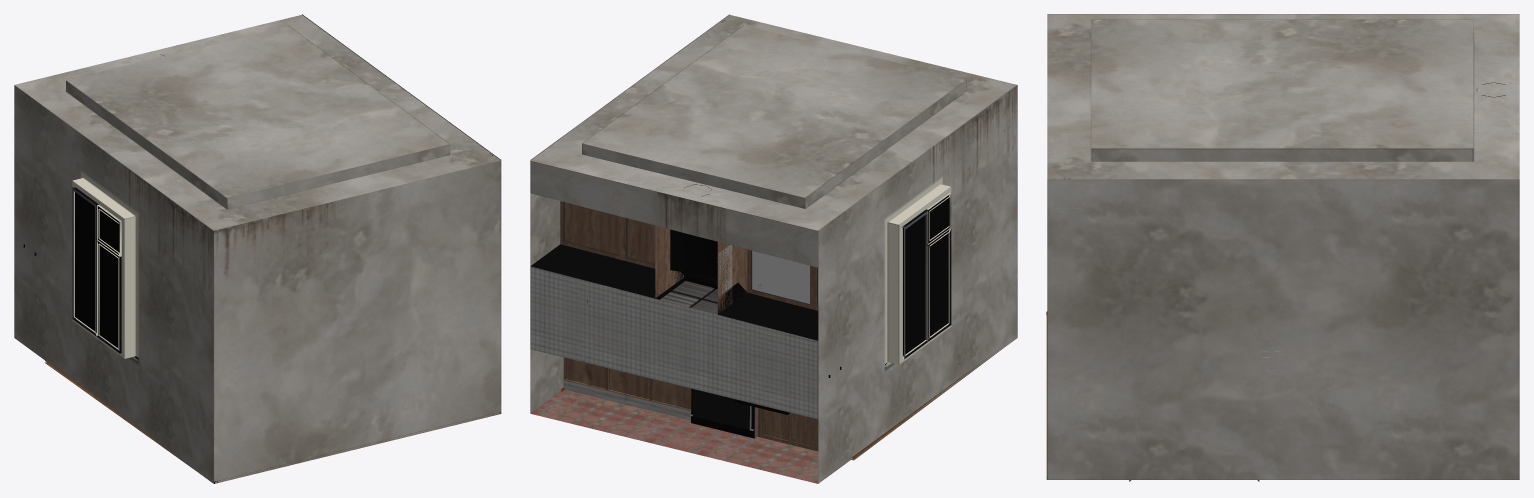
The picture shows the model from 3 angles, left to right: view 1: azimuth 30°, elevation 25°; view 2: azimuth 150°, elevation 25°; view 3: azimuth 270°, elevation 25°; orthographic projection. The views are drawn at different scales.
Visible parts, largest first — view 1: Geode; view 2: Geode; view 3: Geode.
Boxes of the visible parts, bbox=[...] form: Geode: bbox=[14, 14, 501, 483]; Geode: bbox=[530, 14, 1017, 483]; Geode: bbox=[1046, 14, 1519, 481].
Bounding box in the file's own units: 358 × 303 × 410.
1 material, 1 textured.
